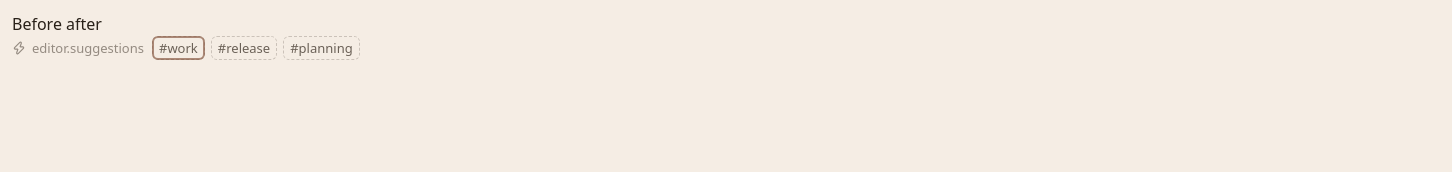
Scenario: editor suggestions › inserts at the remembered caret when a chip takes focus
The image size is (1452, 172).
Click the button with aria-label "common.add #work".
click(178, 48)  # box [152,36,205,60]
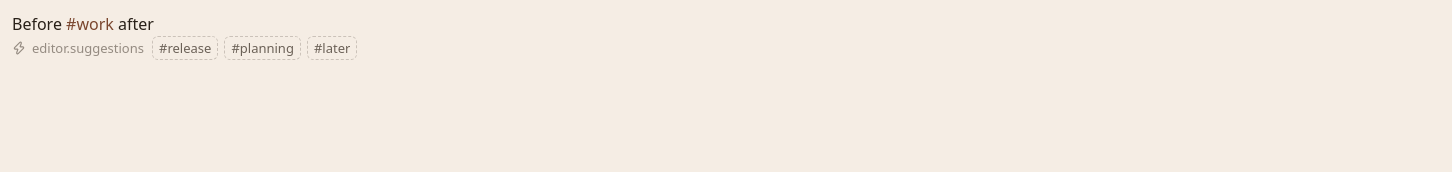
Check: the text box labelled "Before #work after" is shown, box [12,12,1451,36]
